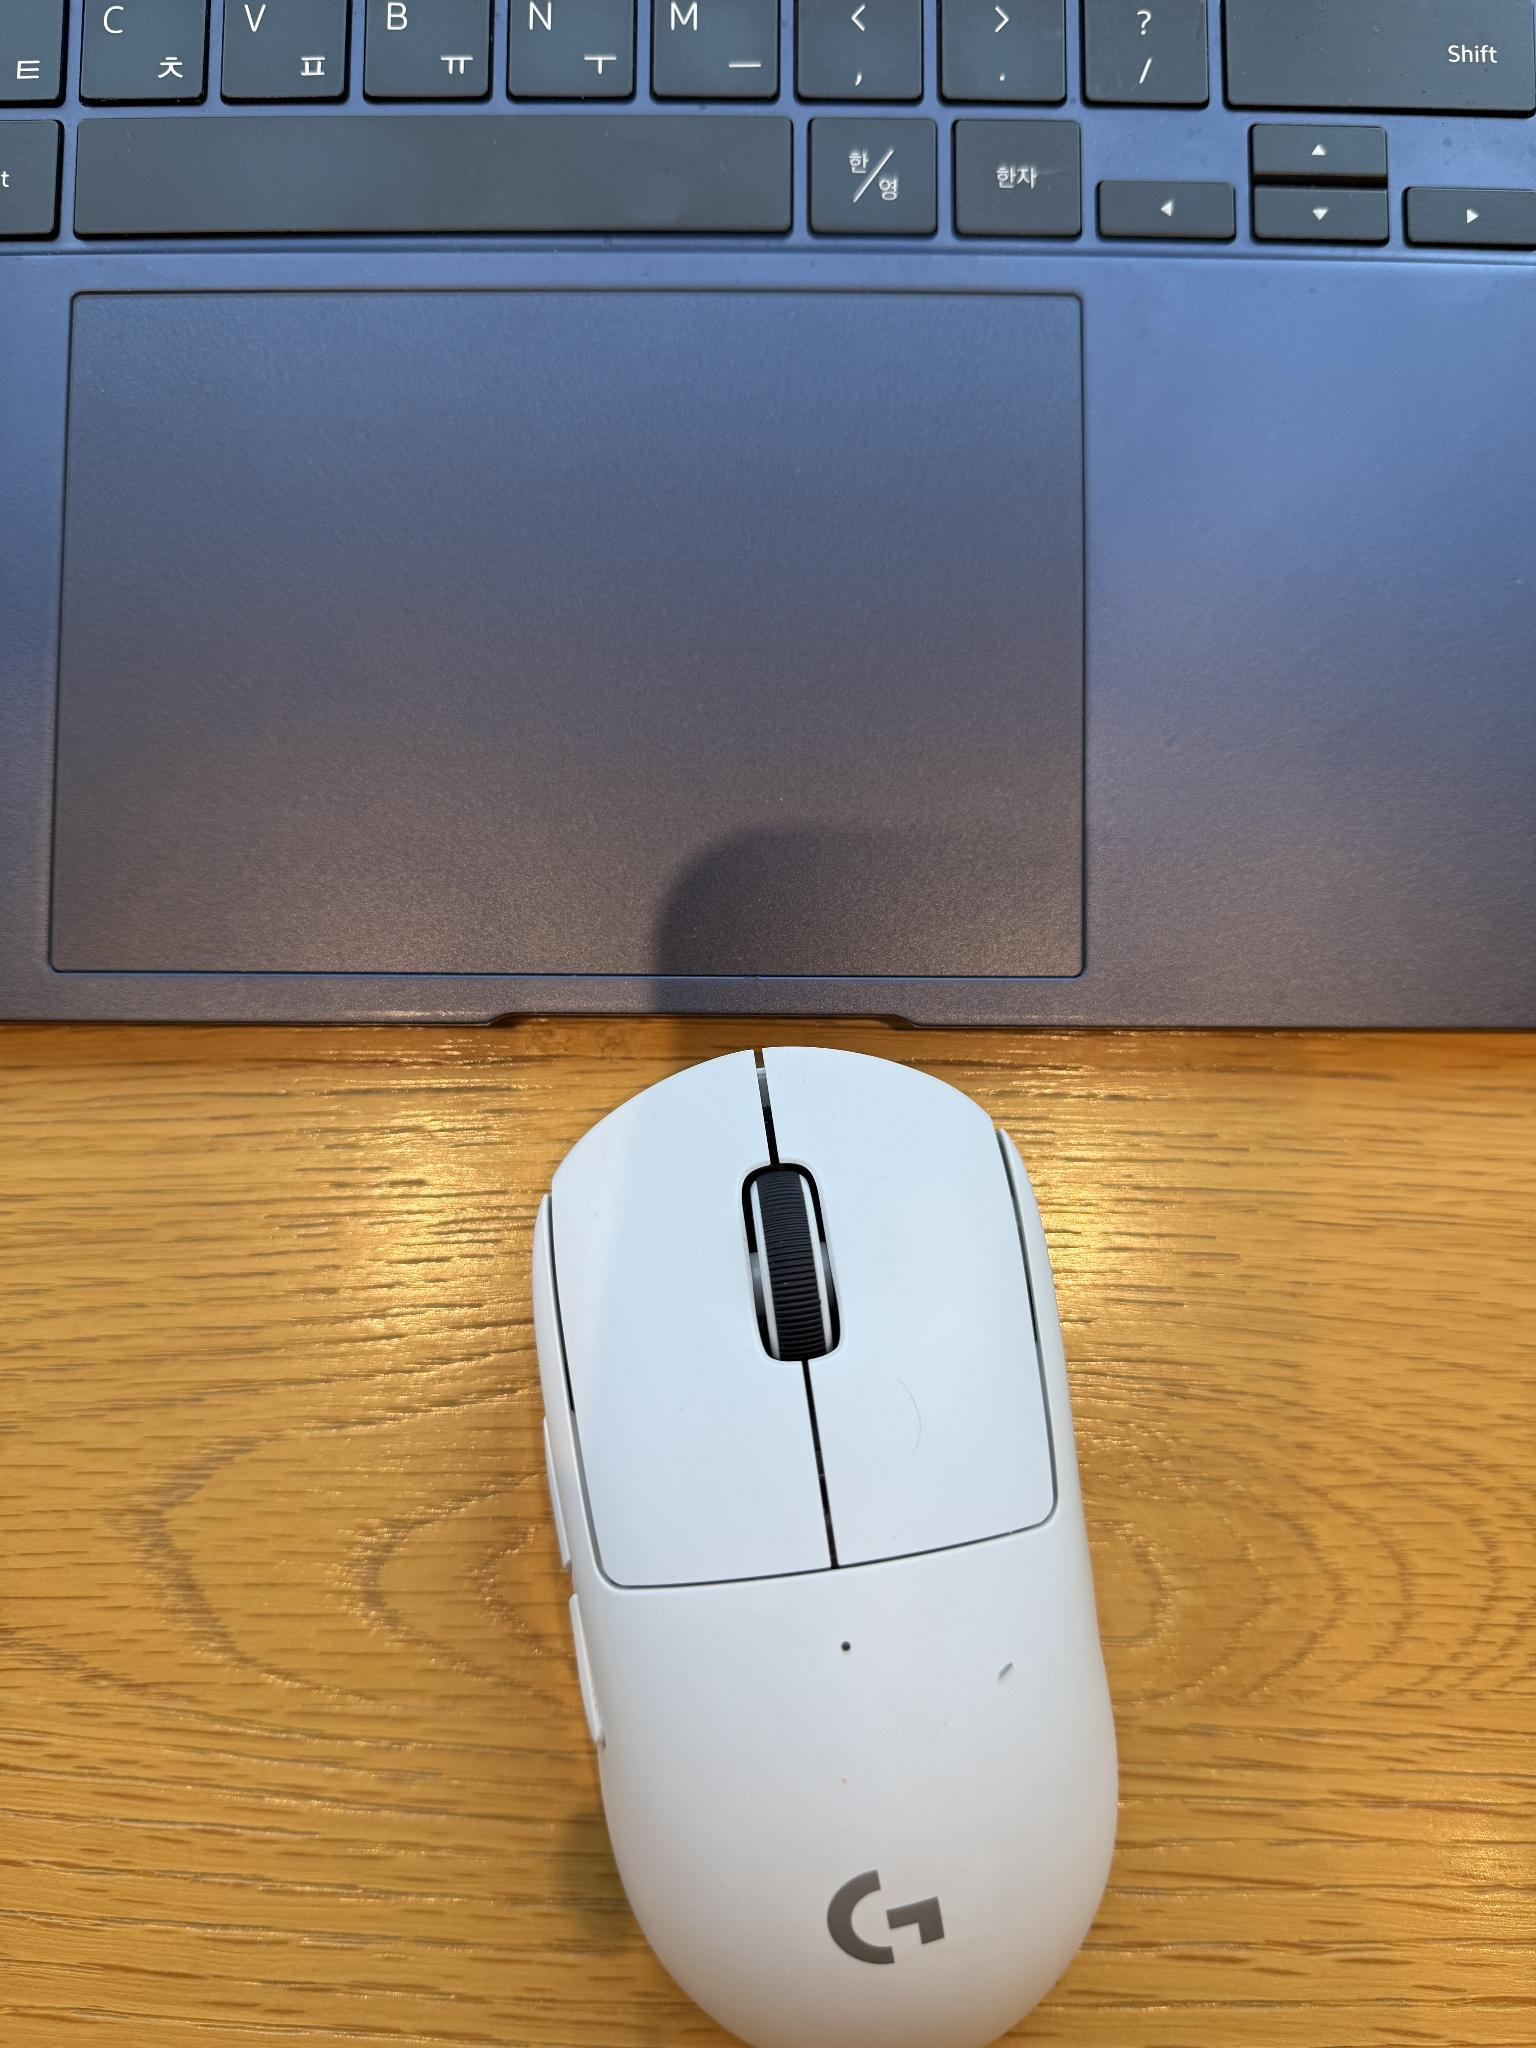front: (520, 1043, 1141, 2048)
